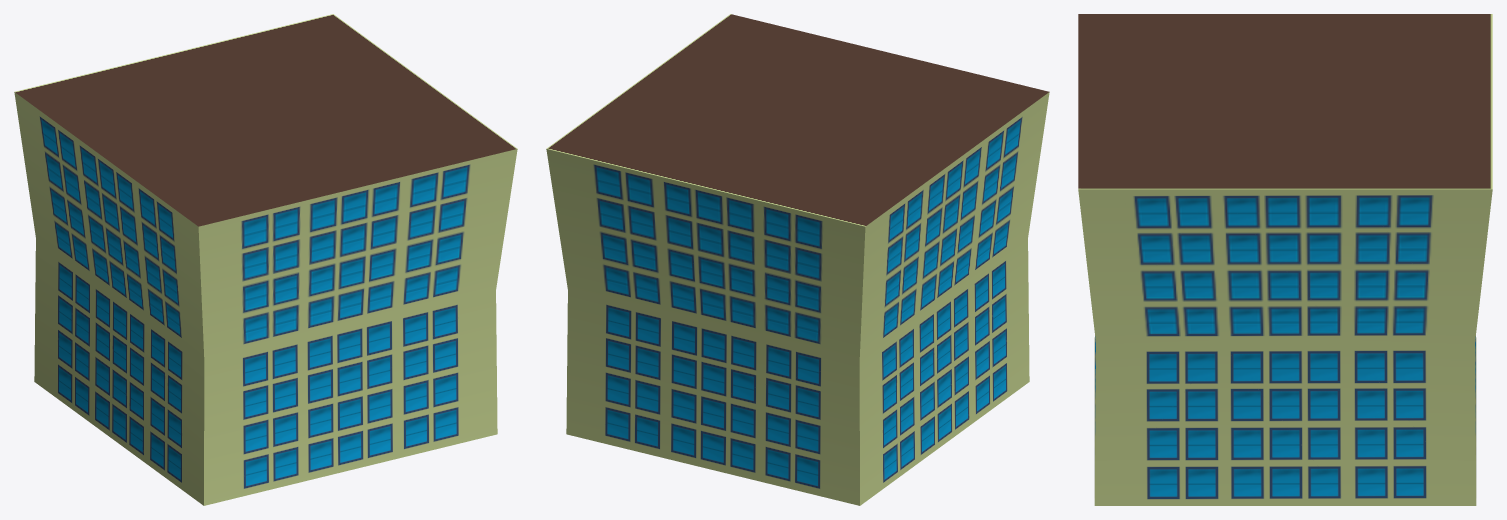
The model's file is Building_1_Mid.fbx.
The picture shows the model from 3 angles, left to right: view 1: azimuth 30°, elevation 25°; view 2: azimuth 150°, elevation 25°; view 3: azimuth 270°, elevation 25°; orthographic projection. The views are drawn at different scales.
Visible parts, largest first — view 1: Building_1_Mid; view 2: Building_1_Mid; view 3: Building_1_Mid.
Boxes of the visible parts, bbox=[...] form: Building_1_Mid: bbox=[14, 14, 517, 505]; Building_1_Mid: bbox=[546, 14, 1049, 505]; Building_1_Mid: bbox=[1078, 14, 1492, 505].
Size of the model in its own units: 92.83 by 80 by 92.83.
